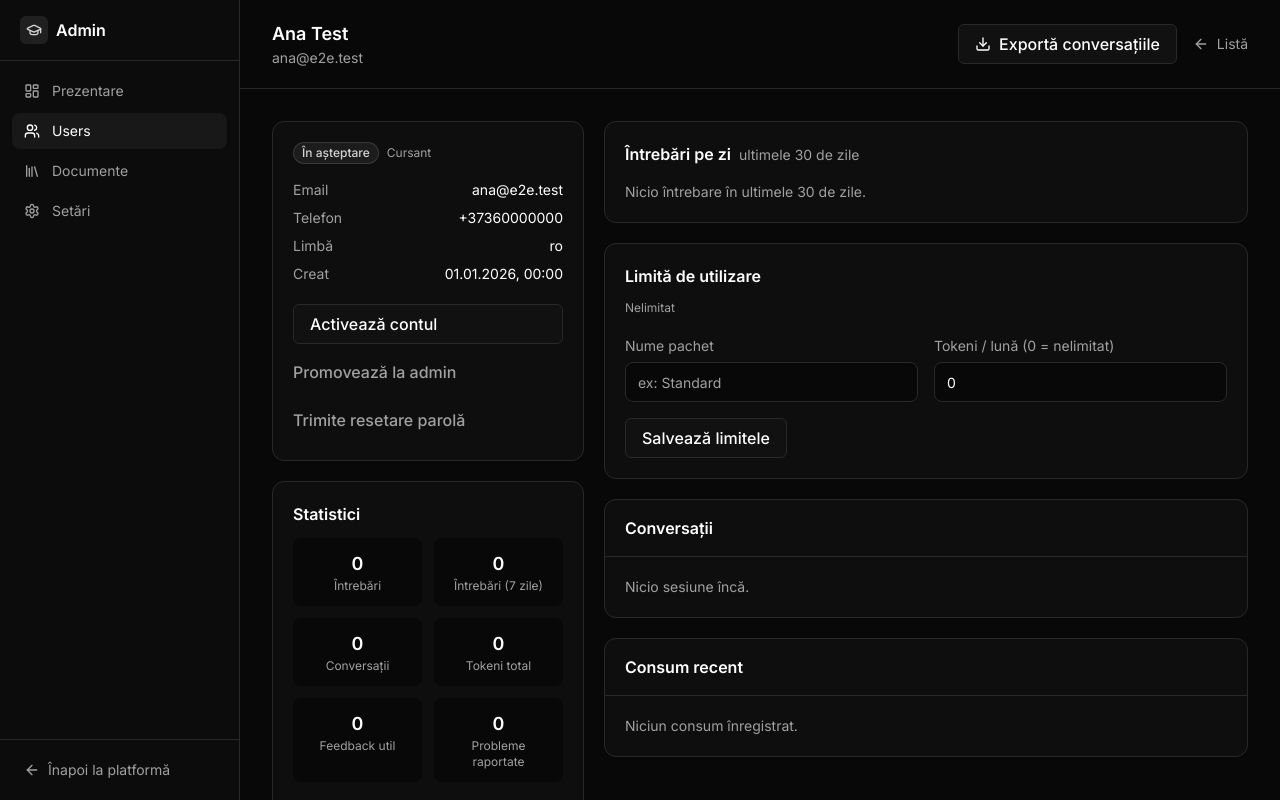
Test: ADMIN-05 User detail › ADMIN-05 action failed (S6): activate refused → “A apărut o eroare. Încearcă din nou.” next to “Activează contul”
Click the button "Activează contul" at {"x": 428, "y": 324}, box 293,304 -> 563,344
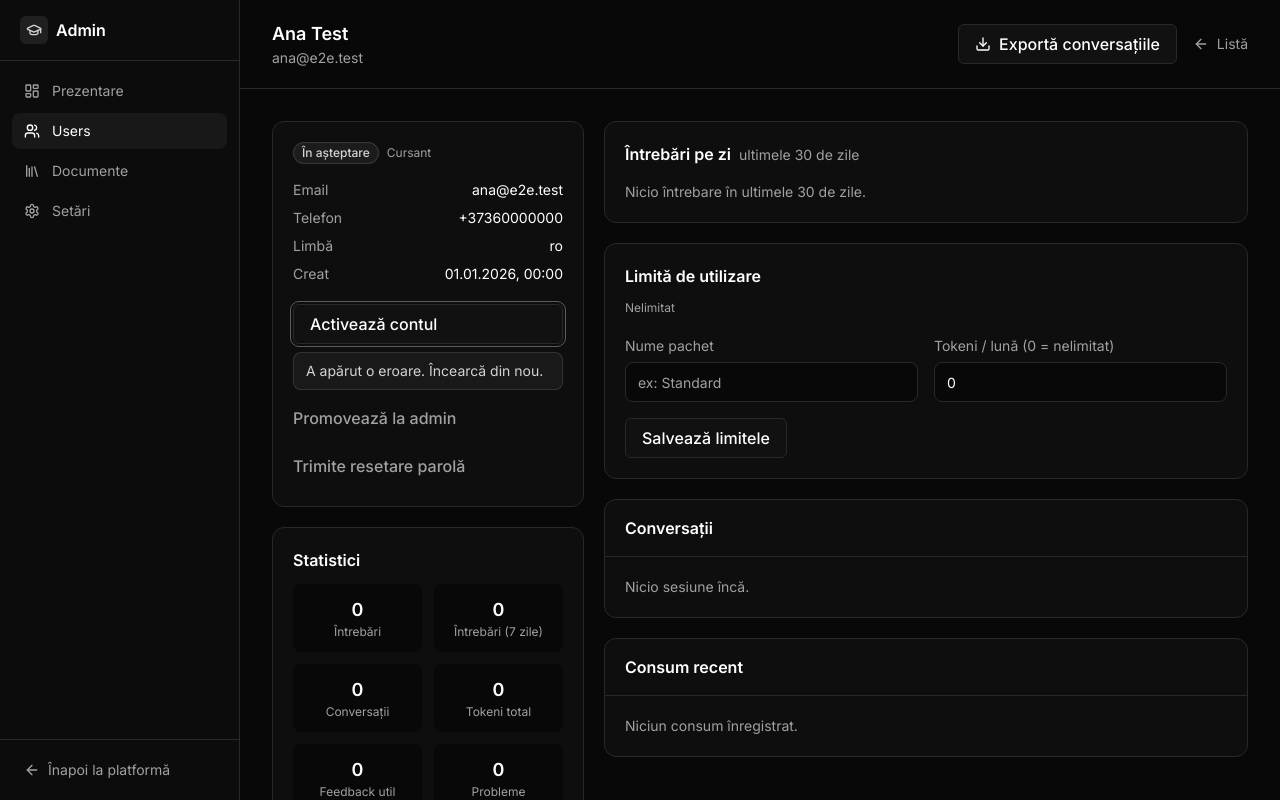
Check: the message reads "A apărut o eroare. Încearcă din nou.", box 306,362 -> 543,379
